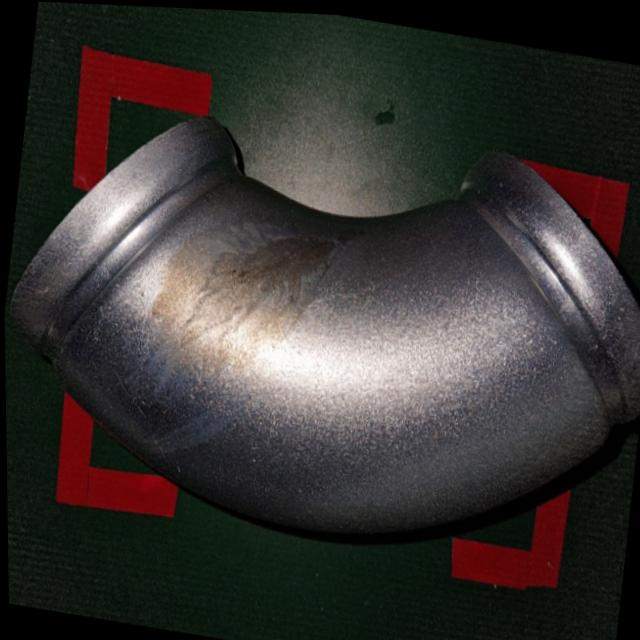Burn: (135, 177, 350, 432)
Defect: (1, 78, 640, 605)
